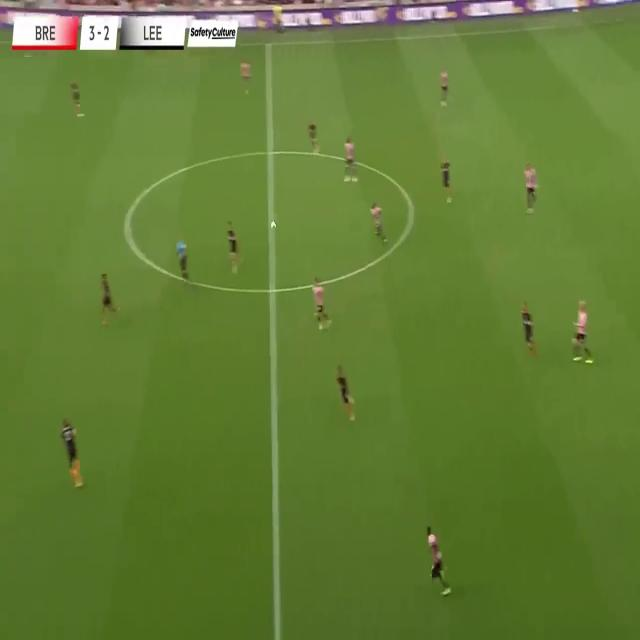ball: (270, 220, 276, 230)
team1: (332, 350, 360, 430), (57, 414, 84, 493), (518, 293, 539, 369), (97, 272, 120, 332), (226, 219, 244, 274), (439, 152, 452, 207), (69, 77, 86, 119), (307, 118, 320, 159)
team2: (424, 514, 452, 606), (568, 296, 597, 369), (310, 267, 335, 336), (436, 65, 455, 113), (371, 196, 388, 248), (524, 162, 540, 215), (344, 134, 356, 182), (240, 59, 252, 99)
